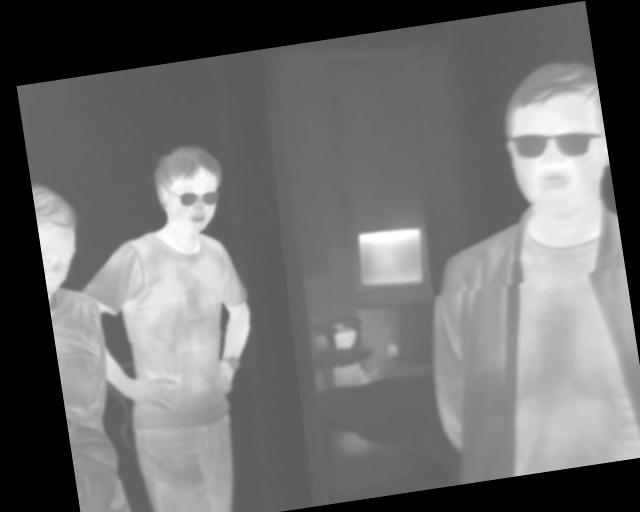face: (492, 55, 615, 219), (148, 139, 230, 238)
